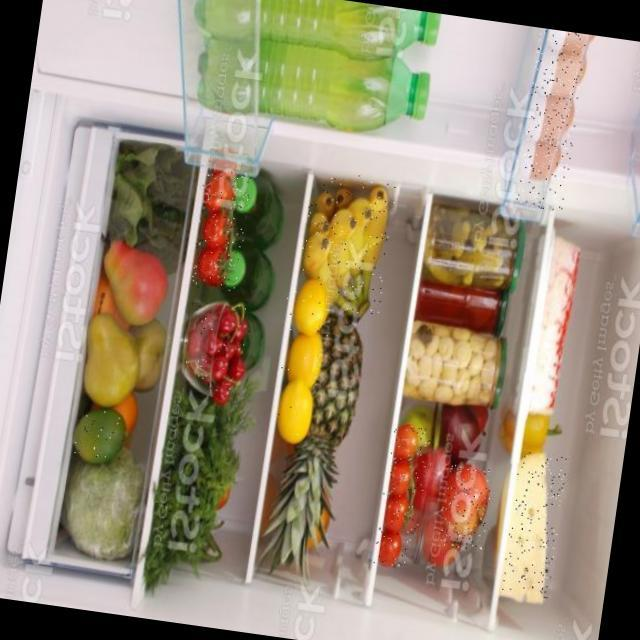Huevos: (515, 28, 587, 212)
Limón: (273, 262, 337, 382), (271, 373, 319, 444)
Manzana: (433, 463, 493, 555)
Plátano: (292, 168, 398, 320)
Queso: (500, 451, 567, 598)
Tomate: (175, 294, 254, 404), (373, 423, 431, 568), (188, 166, 253, 293)
lime: (71, 406, 129, 466)
